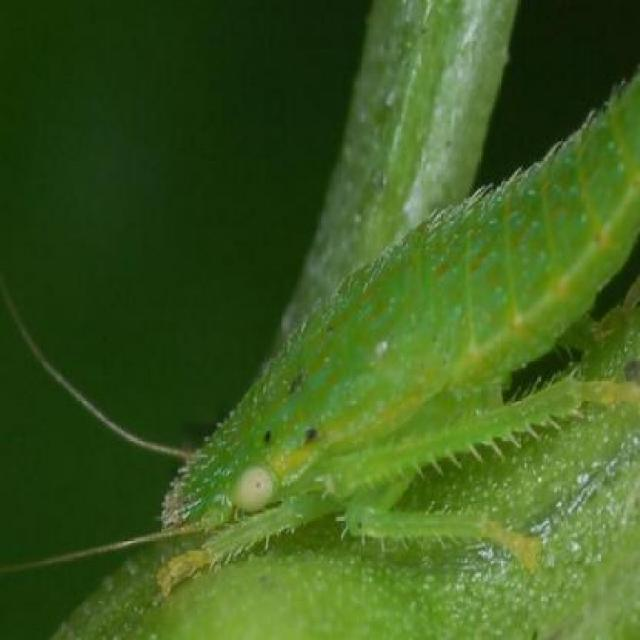green-leafhopper: (81, 76, 638, 592)
